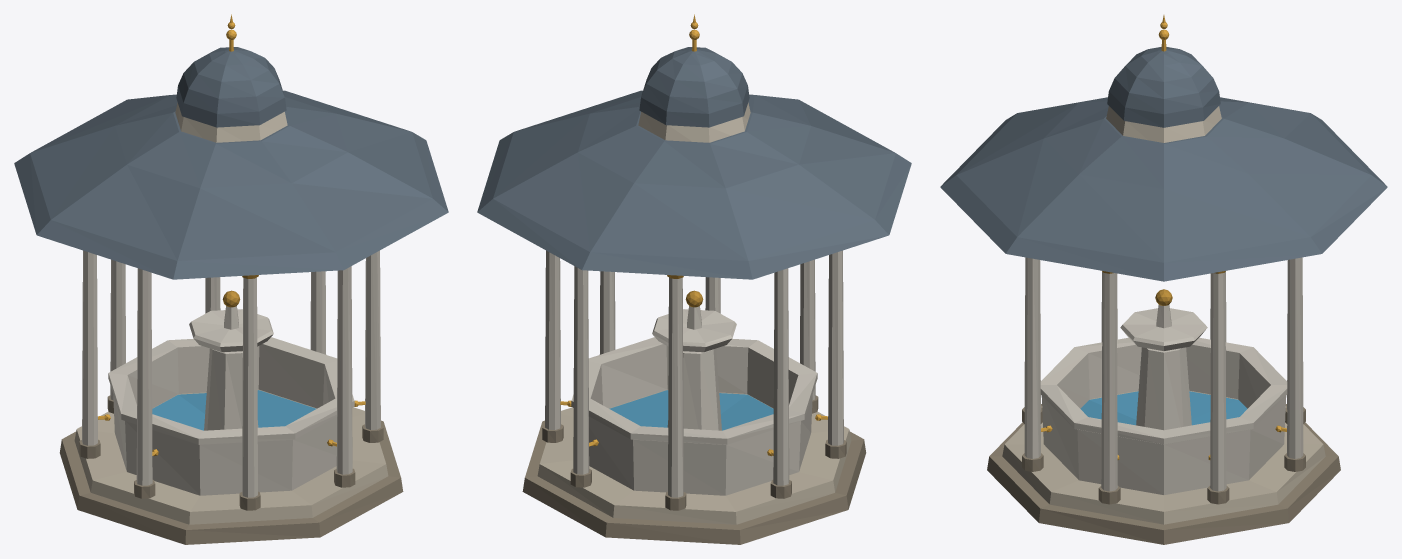
Rendered from ZB_yapi_sadirvan.glb.
The picture shows the model from 3 angles, left to right: view 1: azimuth 30°, elevation 25°; view 2: azimuth 150°, elevation 25°; view 3: azimuth 270°, elevation 25°; orthographic projection.
Visible parts, largest first — view 1: ZB_yapi_sadirvan; view 2: ZB_yapi_sadirvan; view 3: ZB_yapi_sadirvan.
Boxes of the visible parts, x1,y1,x2,y2 form: ZB_yapi_sadirvan: (14,14,448,544); ZB_yapi_sadirvan: (477,14,911,544); ZB_yapi_sadirvan: (940,15,1387,544).
Bounding box in the file's own units: 4.1 × 4.61 × 4.1.
